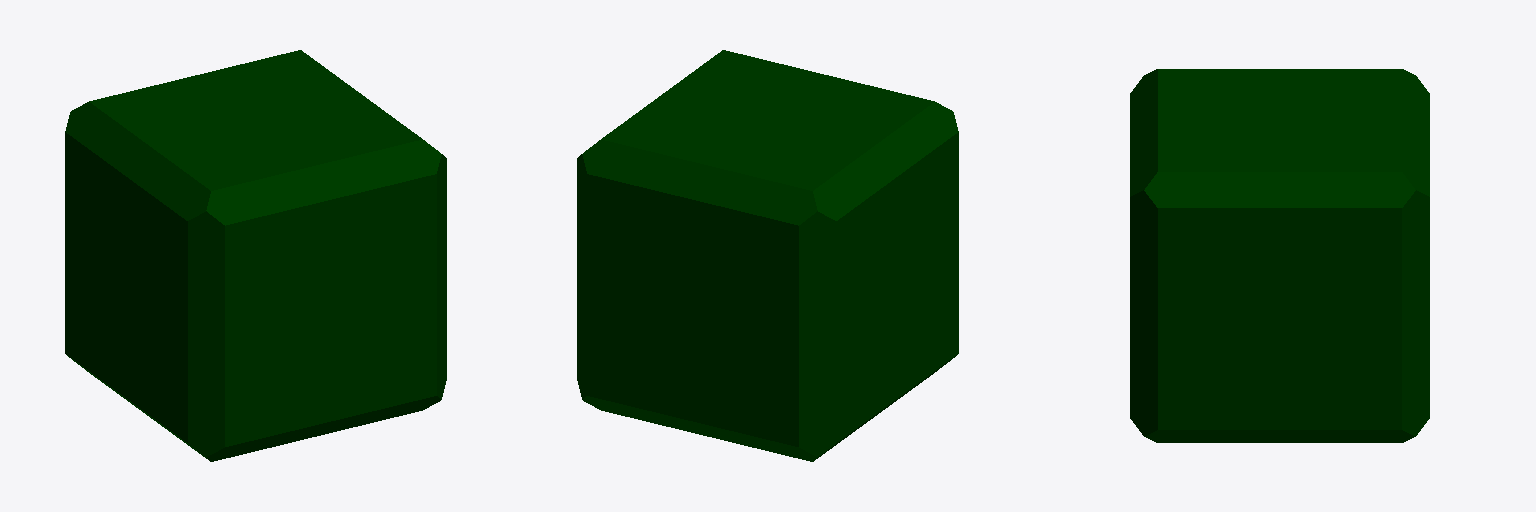
The model's file is SinglePiece-6.obj.
The picture shows the model from 3 angles: view 1: azimuth 30°, elevation 25°; view 2: azimuth 150°, elevation 25°; view 3: azimuth 270°, elevation 25°; orthographic projection.
Parts seen in each view (by area): view 1: Cube; view 2: Cube; view 3: Cube.
Boxes of the visible parts, x1=… form: Cube: x1=65, y1=50, x2=446, y2=461; Cube: x1=577, y1=50, x2=958, y2=461; Cube: x1=1130, y1=69, x2=1429, y2=442.
Size of the model in its own units: 1 by 1 by 1.